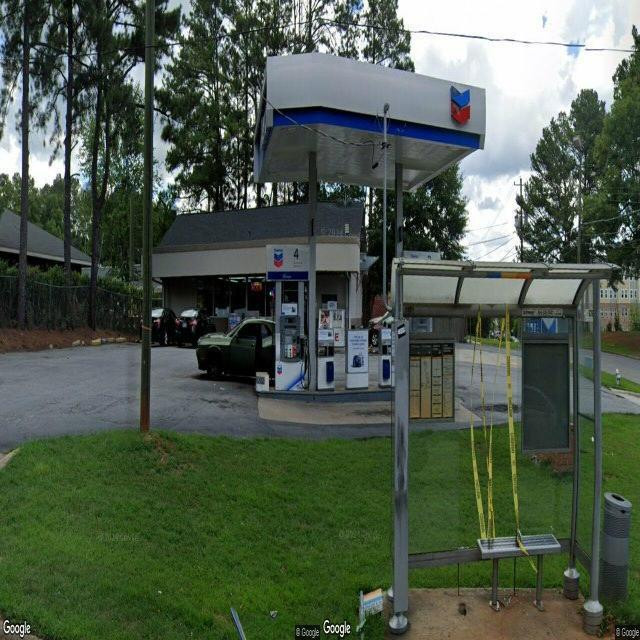seating: (476, 528, 564, 616)
shelter: (392, 259, 620, 636)
trash_can: (600, 491, 630, 614)
